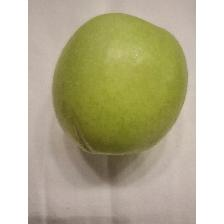Apfel: (51, 10, 190, 158)
